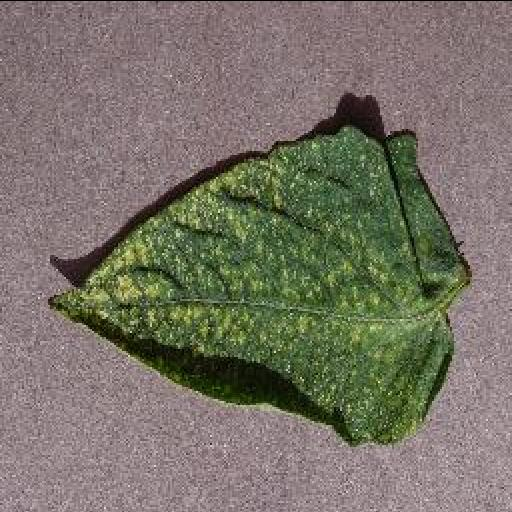disease_tomato: (44, 124, 474, 450)
